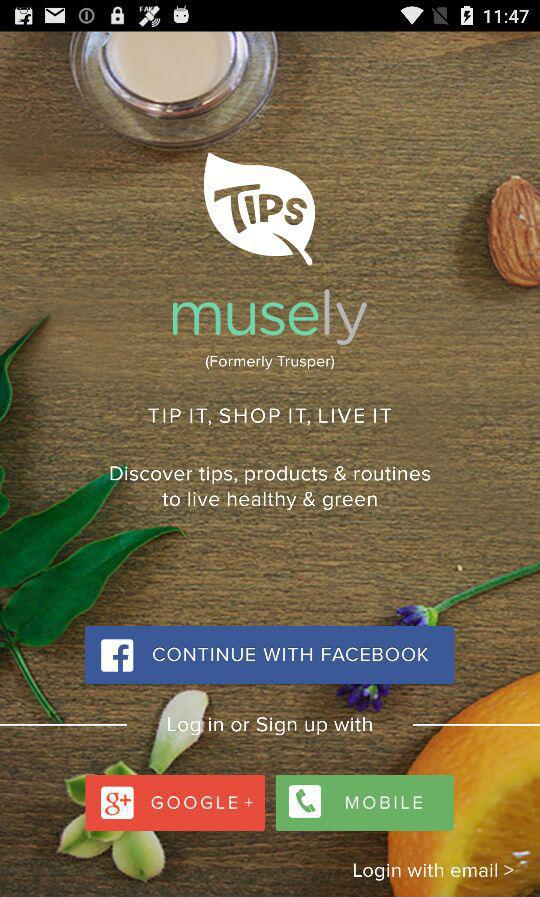BackgroundImage: (1, 33, 540, 897)
Image: (203, 152, 316, 268), (172, 289, 368, 347)
Text: (109, 465, 432, 512), (147, 407, 392, 428), (168, 716, 373, 737), (353, 862, 514, 882), (205, 354, 336, 372)
TextButton: (86, 626, 455, 685), (86, 775, 267, 832), (276, 775, 455, 832)
UpperTaskBar: (1, 1, 540, 33)
